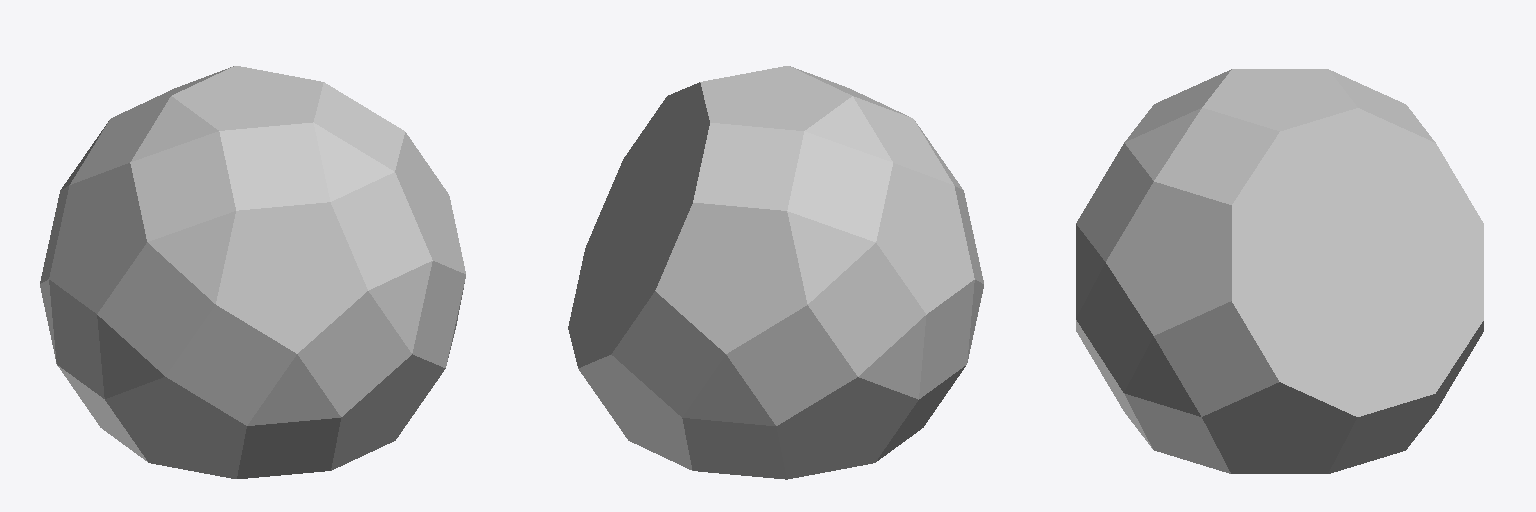
File: GyratebiDiminishedRhombIcosiDodecahedron.obj
3 renders of one model, left to right at view 1: azimuth 30°, elevation 25°; view 2: azimuth 150°, elevation 25°; view 3: azimuth 270°, elevation 25°, orthographic.
Visible parts, largest first — view 1: GyrateBiDiminishedRhombIcosiDodecahedron; view 2: GyrateBiDiminishedRhombIcosiDodecahedron; view 3: GyrateBiDiminishedRhombIcosiDodecahedron.
Part boxes in pixels (bbox=[...]): GyrateBiDiminishedRhombIcosiDodecahedron: bbox=[40, 66, 465, 478]; GyrateBiDiminishedRhombIcosiDodecahedron: bbox=[568, 66, 983, 479]; GyrateBiDiminishedRhombIcosiDodecahedron: bbox=[1076, 69, 1483, 473].
Bounding box in the file's own units: 3.29 × 2.71 × 3.18.